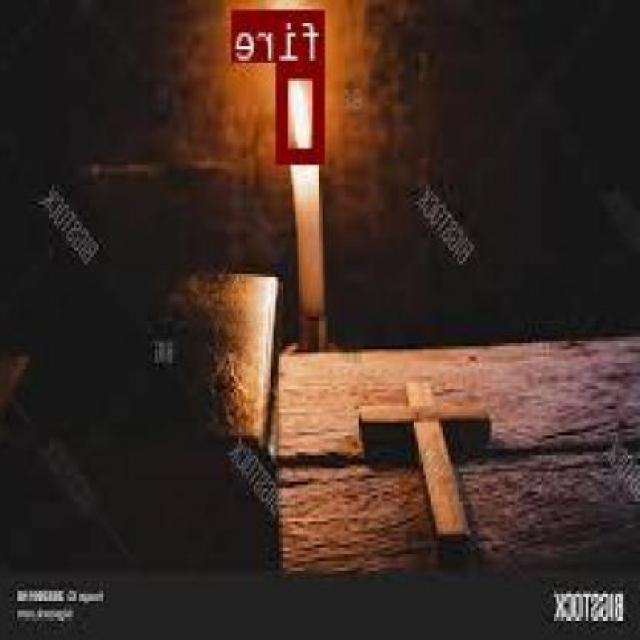fire: (279, 61, 327, 161)
